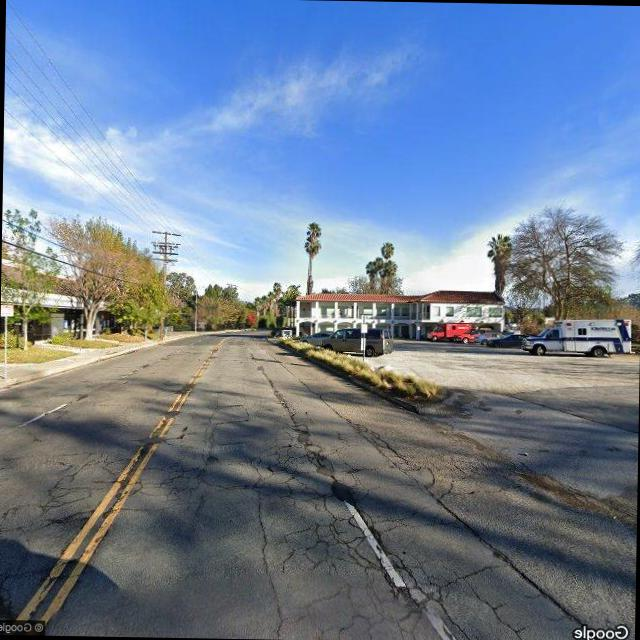crack: (10, 392, 600, 640)
